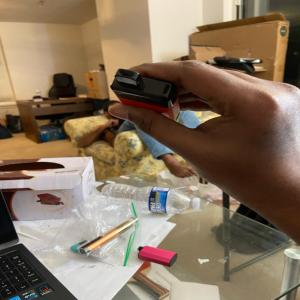Swift-E-Ciggirate: (101, 66, 192, 124)
